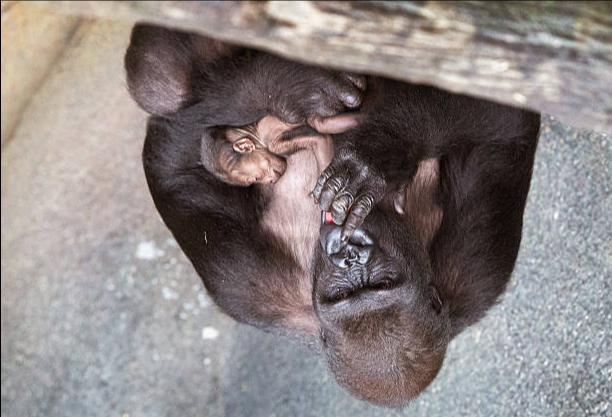gorille_Autres: (129, 36, 514, 415)
